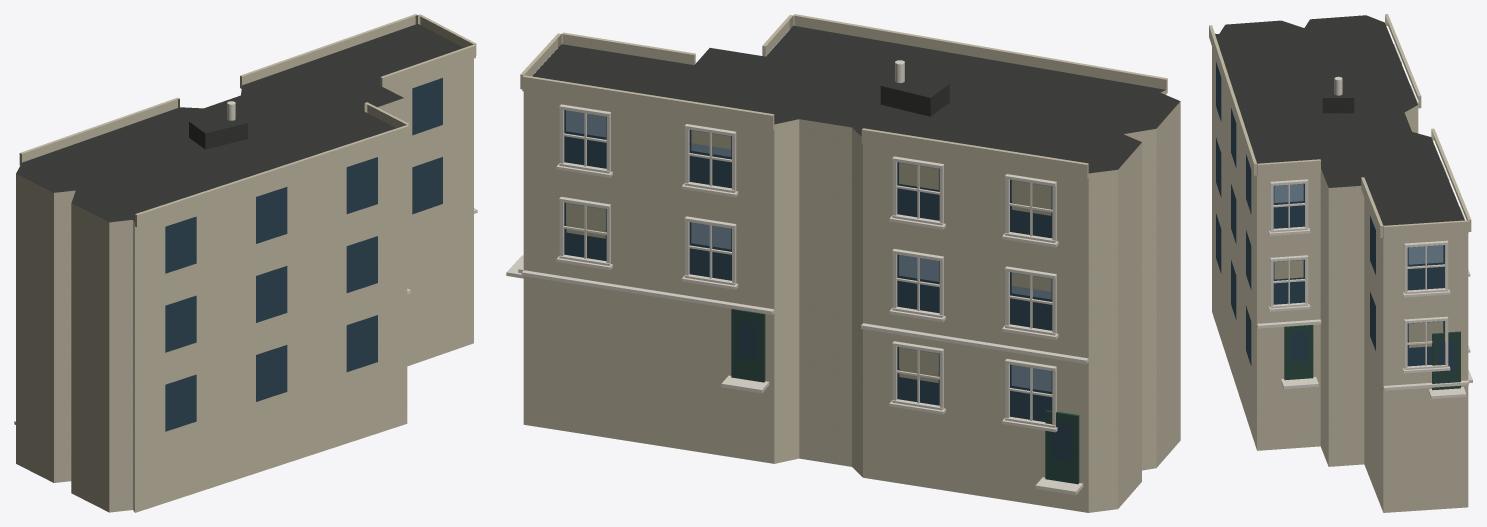
The picture shows the model from 3 angles, left to right: view 1: azimuth 30°, elevation 25°; view 2: azimuth 150°, elevation 25°; view 3: azimuth 270°, elevation 25°; orthographic projection. The views are drawn at different scales.
Visible parts, largest first — view 1: Footprint 0 / surface 2, Footprint 0 / surface 1, Inset glazing, Facade bay volumes, Inferred rooftop service enclosure / surface 5, Inferred rooftop service enclosure / surface 3; view 2: Footprint 0 / surface 2, Footprint 0 / surface 1, Cornices and window frames, Facade bay volumes, Inset glazing, Interior blind variation, Sky reflection panels, Storefronts and doors, Inferred rooftop service enclosure / surface 6, Inferred rooftop service enclosure / surface 3; view 3: Footprint 0 / surface 2, Footprint 0 / surface 1, Inset glazing, Cornices and window frames, Facade bay volumes, Storefronts and doors, Sky reflection panels, Interior blind variation, Inferred rooftop service enclosure / surface 3, Inferred rooftop service enclosure / surface 1.
Boxes of the visible parts, box(x1,y1,x2,y2) form: Footprint 0 / surface 2: box(16, 58, 473, 512); Footprint 0 / surface 1: box(16, 24, 463, 222); Inset glazing: box(165, 78, 442, 431); Facade bay volumes: box(19, 14, 476, 227); Inferred rooftop service enclosure / surface 5: box(205, 123, 247, 149); Inferred rooftop service enclosure / surface 3: box(189, 112, 247, 133); Footprint 0 / surface 2: box(523, 90, 1180, 512); Footprint 0 / surface 1: box(532, 25, 1180, 173); Cornices and window frames: box(506, 104, 1088, 495); Facade bay volumes: box(520, 14, 1167, 179); Inset glazing: box(564, 110, 1071, 461); Interior blind variation: box(566, 130, 1051, 382); Sky reflection panels: box(566, 110, 1051, 391); Storefronts and doors: box(731, 309, 1079, 484); Inferred rooftop service enclosure / surface 6: box(880, 86, 930, 116); Inferred rooftop service enclosure / surface 3: box(881, 73, 948, 97); Footprint 0 / surface 2: box(1212, 47, 1468, 512); Footprint 0 / surface 1: box(1215, 15, 1464, 225); Inset glazing: box(1216, 62, 1454, 371); Cornices and window frames: box(1257, 44, 1472, 399); Facade bay volumes: box(1209, 14, 1471, 238); Storefronts and doors: box(1284, 325, 1460, 390); Sky reflection panels: box(1274, 184, 1443, 340); Interior blind variation: box(1274, 260, 1442, 347); Inferred rooftop service enclosure / surface 3: box(1322, 78, 1354, 97); Inferred rooftop service enclosure / surface 1: box(1322, 98, 1354, 113).
Bounding box in the file's own units: 20.08 × 13 × 10.04.
